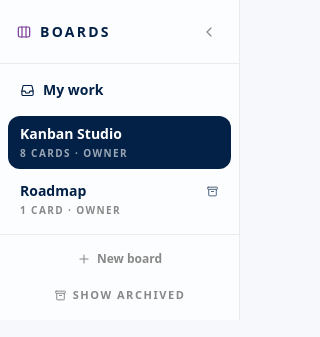
Test: BoardRail › collapses to icons and still switches boards
Click the button named "hide board list": [209, 32] box [195,18,223,46]
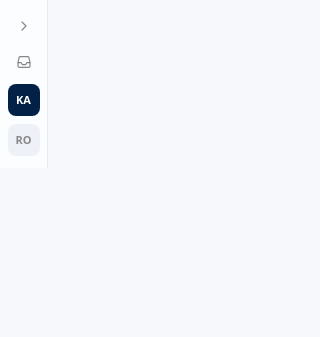
Click the button with aria-label "Open Roadmap": [24, 140] box [8,124,40,156]
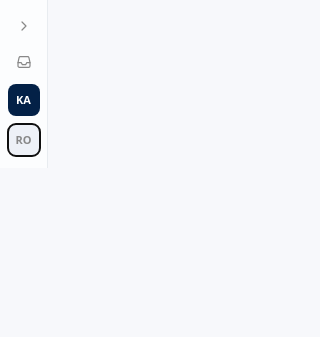
Click the button named "show board list": [24, 26] box [10,12,38,40]
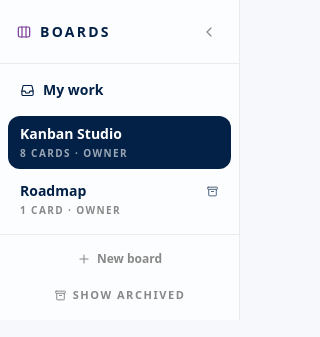
expect the navigation bar with test id "board-rail" is shown: met
